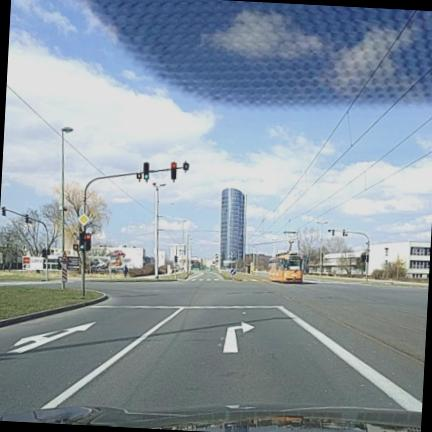Road: (0, 272, 427, 413)
